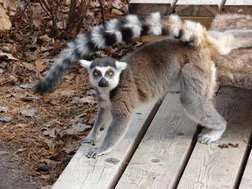cat: (30, 11, 236, 164)
